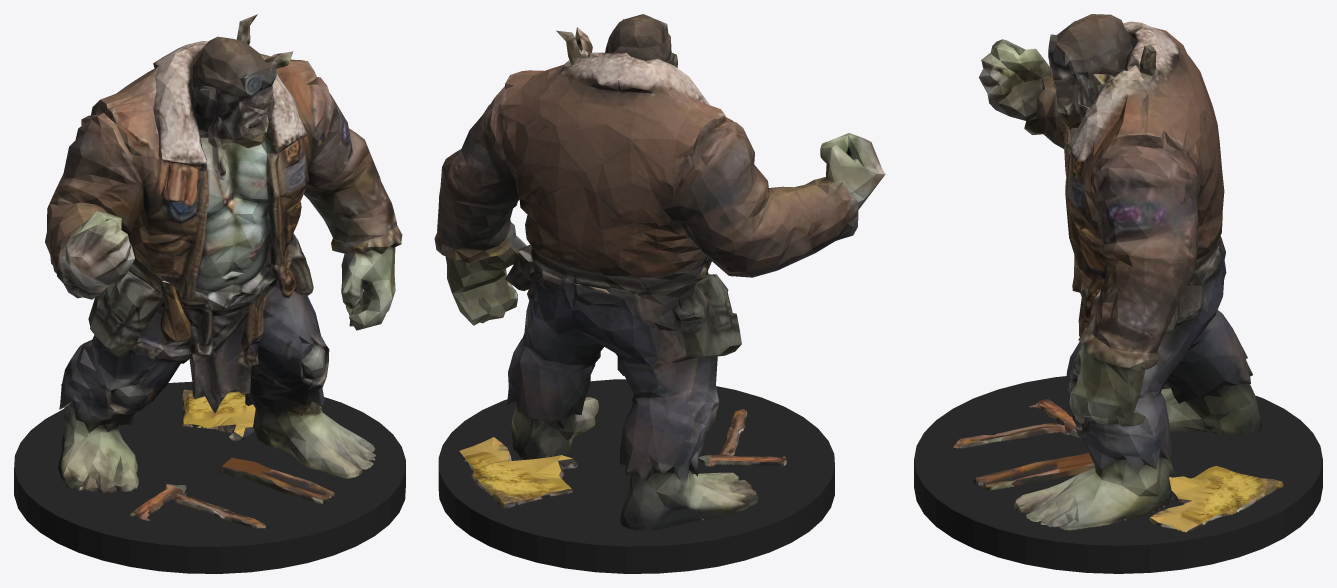
File: aviator.glb
3 renders of one model, left to right at view 1: azimuth 30°, elevation 25°; view 2: azimuth 150°, elevation 25°; view 3: azimuth 270°, elevation 25°, orthographic. The views are drawn at different scales.
Visible parts, largest first — view 1: figure, base; view 2: figure, base; view 3: figure, base.
Part boxes in pixels (left/top/right/bottom): figure: left=45, top=14, right=402, bottom=528; base: left=14, top=381, right=405, bottom=573; figure: left=434, top=14, right=885, bottom=530; base: left=438, top=379, right=834, bottom=573; figure: left=953, top=14, right=1283, bottom=532; base: left=914, top=376, right=1322, bottom=573.
Bounding box in the file's own units: 1.79 × 2.02 × 1.57.
2 materials, 1 textured.
